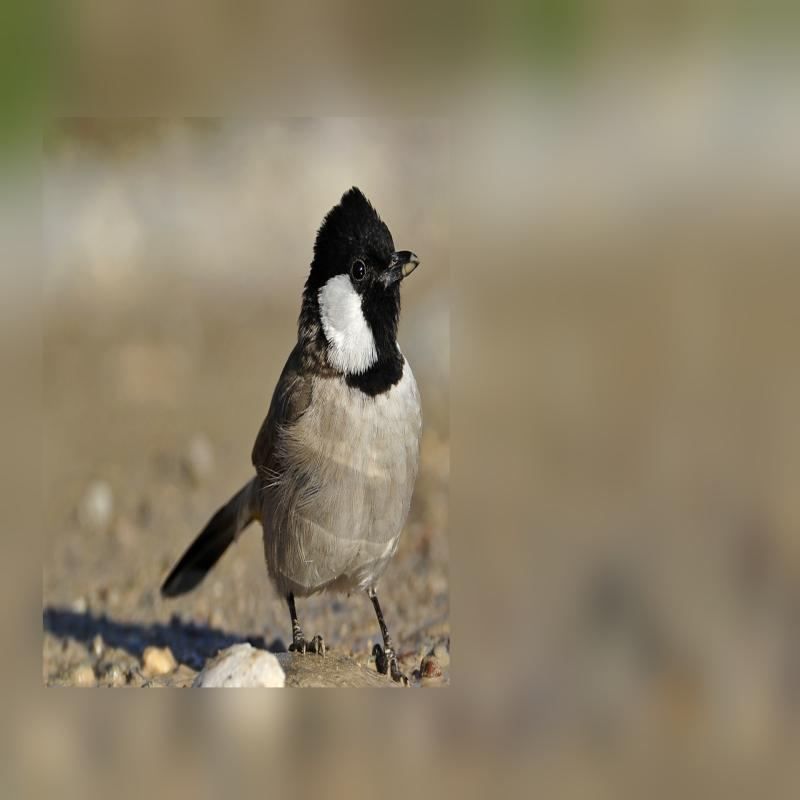white-eared bulbul: (157, 176, 445, 683)
